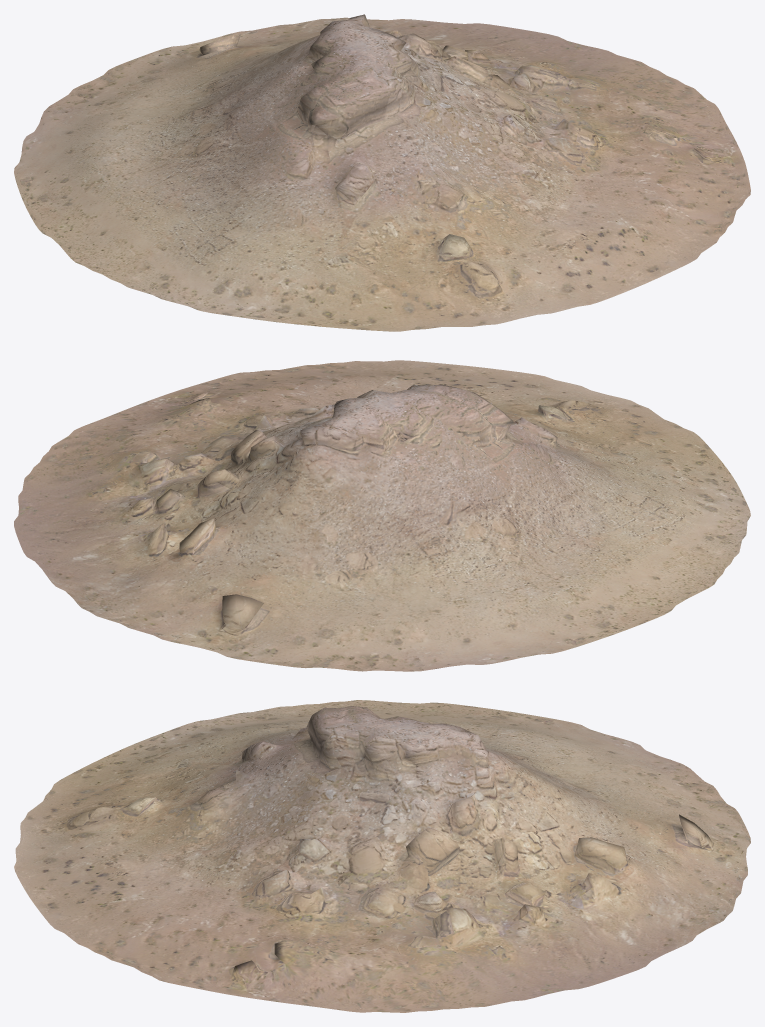
The model's file is cliff0003.glb.
3 views of the same model, one above another, from view 1: azimuth 30°, elevation 25°; view 2: azimuth 150°, elevation 25°; view 3: azimuth 270°, elevation 25° (orthographic).
Parts seen in each view (by area): view 1: Cliff0003; view 2: Cliff0003; view 3: Cliff0003.
Part boxes in pixels (x1,y1,x2,y2): Cliff0003: [14, 14, 750, 331]; Cliff0003: [14, 360, 750, 671]; Cliff0003: [14, 700, 750, 1012].
Size of the model in its own units: 13.49 by 2.53 by 13.43.
1 material, 1 textured.
